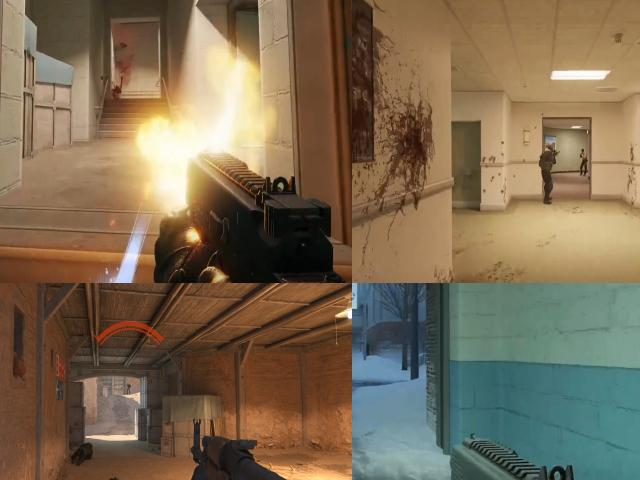CT: (536, 135, 556, 202), (127, 381, 130, 394)
CT-Head: (545, 142, 554, 155), (127, 382, 129, 383)
Dead: (72, 442, 95, 466), (108, 77, 127, 101)
T: (578, 146, 590, 176)
T-Head: (581, 148, 587, 156)
